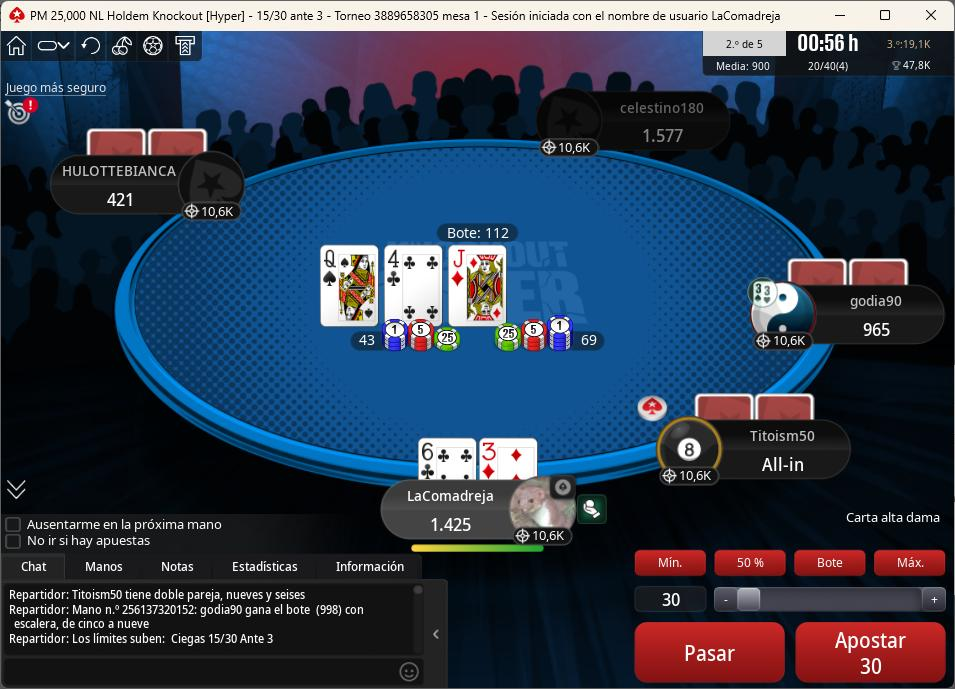ButtonMaxRaise: (872, 548, 949, 577)
ButtonMinRaise: (633, 547, 711, 580)
ButtonPotRaise: (792, 547, 867, 583)
ButtonRaise: (792, 618, 947, 684)
HiddenCards: (691, 393, 821, 423), (83, 132, 211, 160), (786, 259, 913, 286)
Player: (745, 284, 951, 352), (652, 421, 854, 489), (49, 151, 247, 216), (546, 93, 734, 159)
PlayerChips: (756, 453, 815, 476), (632, 125, 693, 144), (858, 322, 902, 343), (99, 191, 139, 210)
Pot: (433, 223, 520, 243)
PrincipalCards: (419, 437, 546, 485)
PrincipalCards1: (420, 436, 478, 483)
PrincipalCards2: (479, 437, 541, 483)
PrincipalPlayer: (385, 474, 587, 551)
PrincipalPlayerChips: (424, 517, 481, 537)
ShowedCards: (318, 243, 510, 329)
ShowedCards1: (319, 244, 379, 327)
ShowedCards2: (383, 245, 444, 327)
ShowedCards3: (446, 242, 508, 327)
SmallBigBlind: (246, 6, 336, 28)
TablePot: (334, 311, 621, 367)
